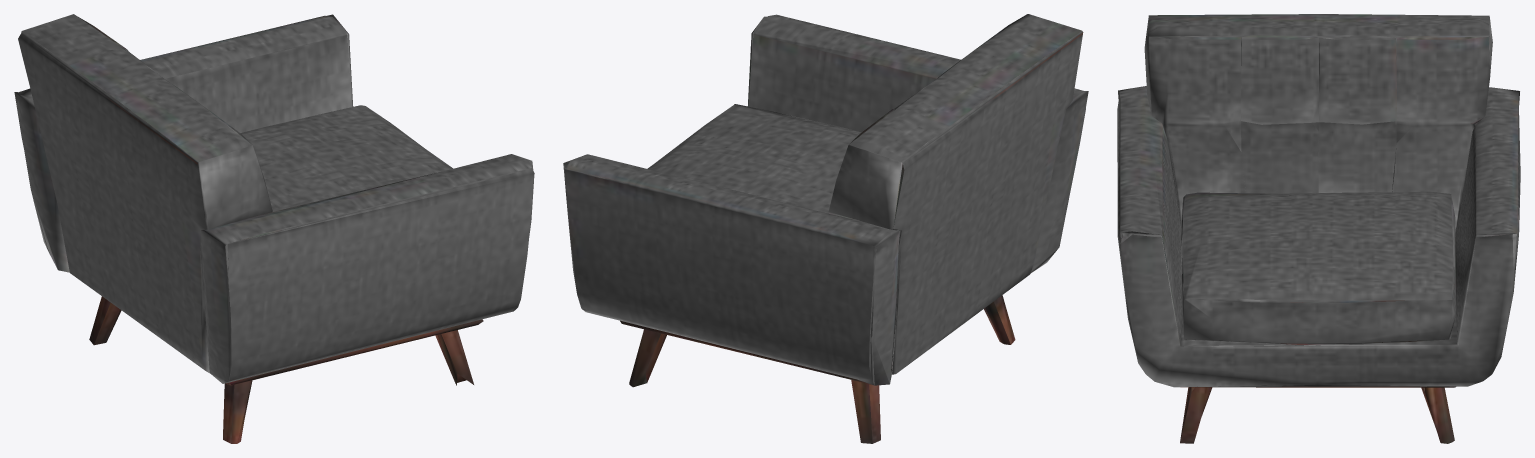
The model's file is S_Sofa0011.obj.
3 views of the same model, side by side, from view 1: azimuth 30°, elevation 25°; view 2: azimuth 150°, elevation 25°; view 3: azimuth 270°, elevation 25° (orthographic). The views are drawn at different scales.
Size of the model in its own units: 0.689 by 0.62 by 0.754.
1 material, 1 textured.
